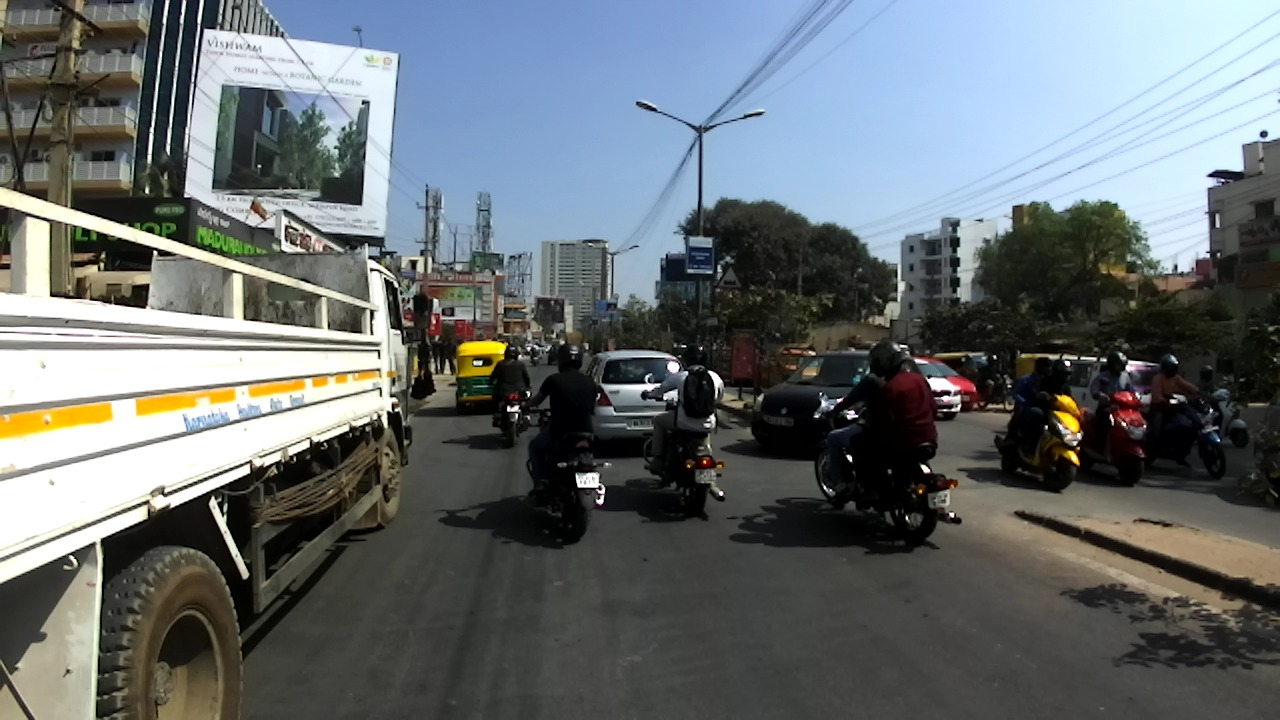autorickshaw: (454, 341, 512, 417), (758, 344, 819, 394), (934, 350, 991, 387), (1013, 354, 1063, 393)
car: (749, 350, 883, 456), (1050, 354, 1187, 430), (581, 348, 685, 446), (911, 354, 977, 413), (910, 357, 962, 421), (548, 344, 567, 366), (671, 341, 688, 363), (543, 343, 552, 354)
motorcycle: (809, 390, 964, 543), (519, 407, 613, 544), (638, 392, 726, 511), (994, 393, 1083, 489), (1138, 393, 1227, 479), (1070, 388, 1148, 484), (488, 382, 534, 445), (1204, 386, 1250, 447), (977, 371, 1014, 412), (531, 354, 540, 367)
person: (432, 337, 443, 374), (447, 339, 457, 374), (438, 339, 447, 375), (457, 341, 465, 347)
rider: (858, 342, 938, 510), (828, 342, 905, 508), (525, 342, 599, 500), (640, 343, 723, 473), (1147, 353, 1204, 469), (1028, 362, 1078, 456), (1091, 348, 1134, 456), (1011, 357, 1054, 446), (486, 344, 532, 424), (1194, 365, 1222, 408), (978, 354, 999, 402), (530, 344, 540, 362)
truck: (1, 181, 433, 720)
vehicle fallback: (851, 344, 912, 359), (522, 344, 534, 355), (537, 347, 546, 360), (581, 342, 590, 352)
